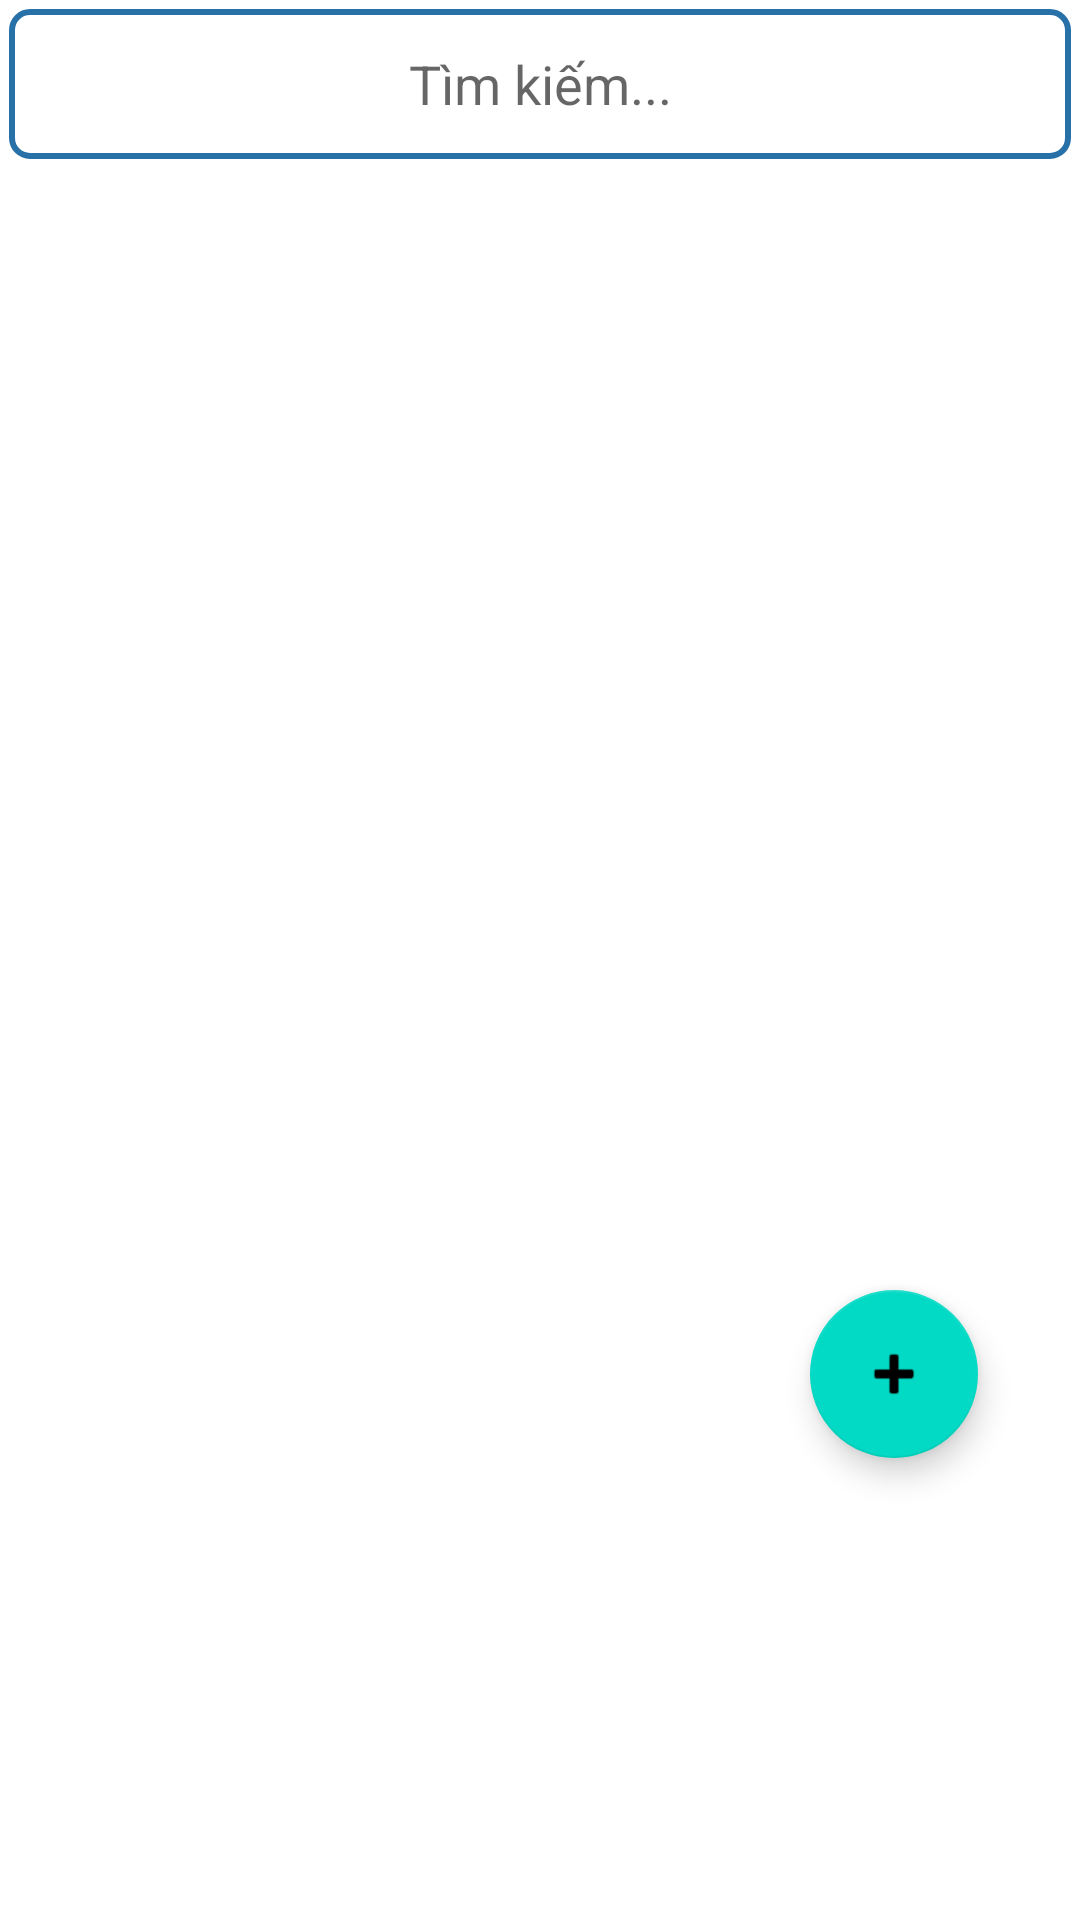

Icon bounding boxes for this 1080w x 1920h phone screenshot, format (x1, y1, x2, y2):
add: (810, 1290, 978, 1458)
